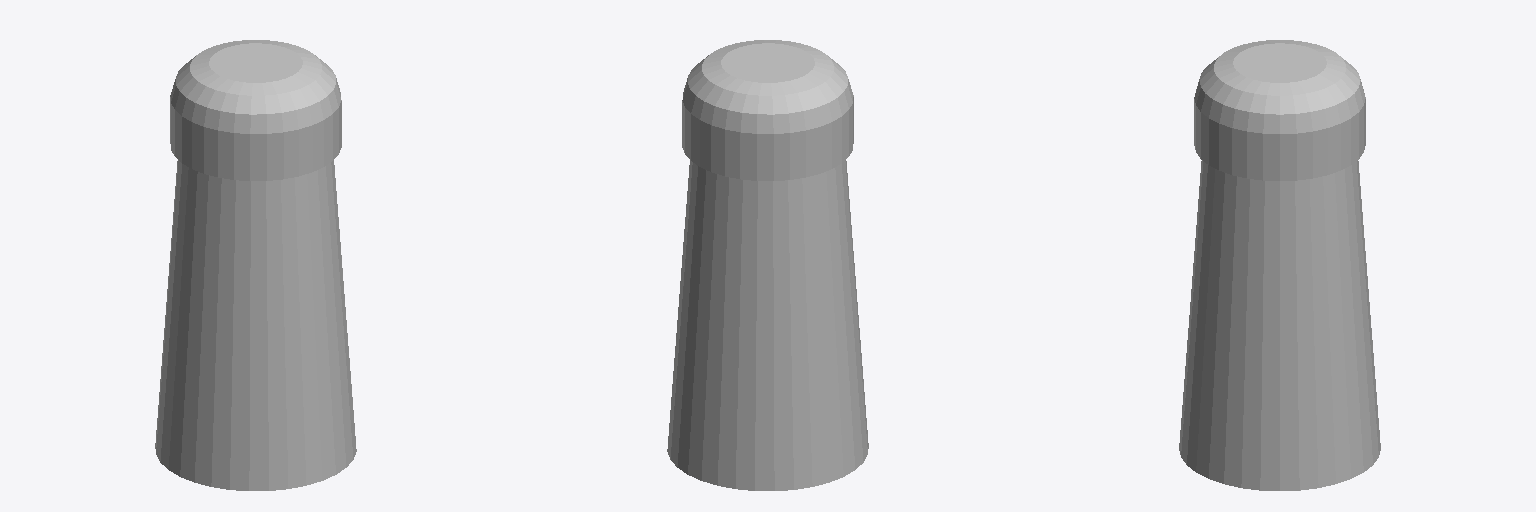
The model's file is salt.obj.
3 views of the same model, side by side, from view 1: azimuth 30°, elevation 25°; view 2: azimuth 150°, elevation 25°; view 3: azimuth 270°, elevation 25° (orthographic).
Parts seen in each view (by area): view 1: salt_Cylinder.001; view 2: salt_Cylinder.001; view 3: salt_Cylinder.001.
Boxes of the visible parts, x1,y1,x2,y2 form: salt_Cylinder.001: [155, 40, 356, 490]; salt_Cylinder.001: [667, 40, 868, 490]; salt_Cylinder.001: [1179, 40, 1380, 490].
Size of the model in its own units: 0.0791 by 0.1667 by 0.0791.